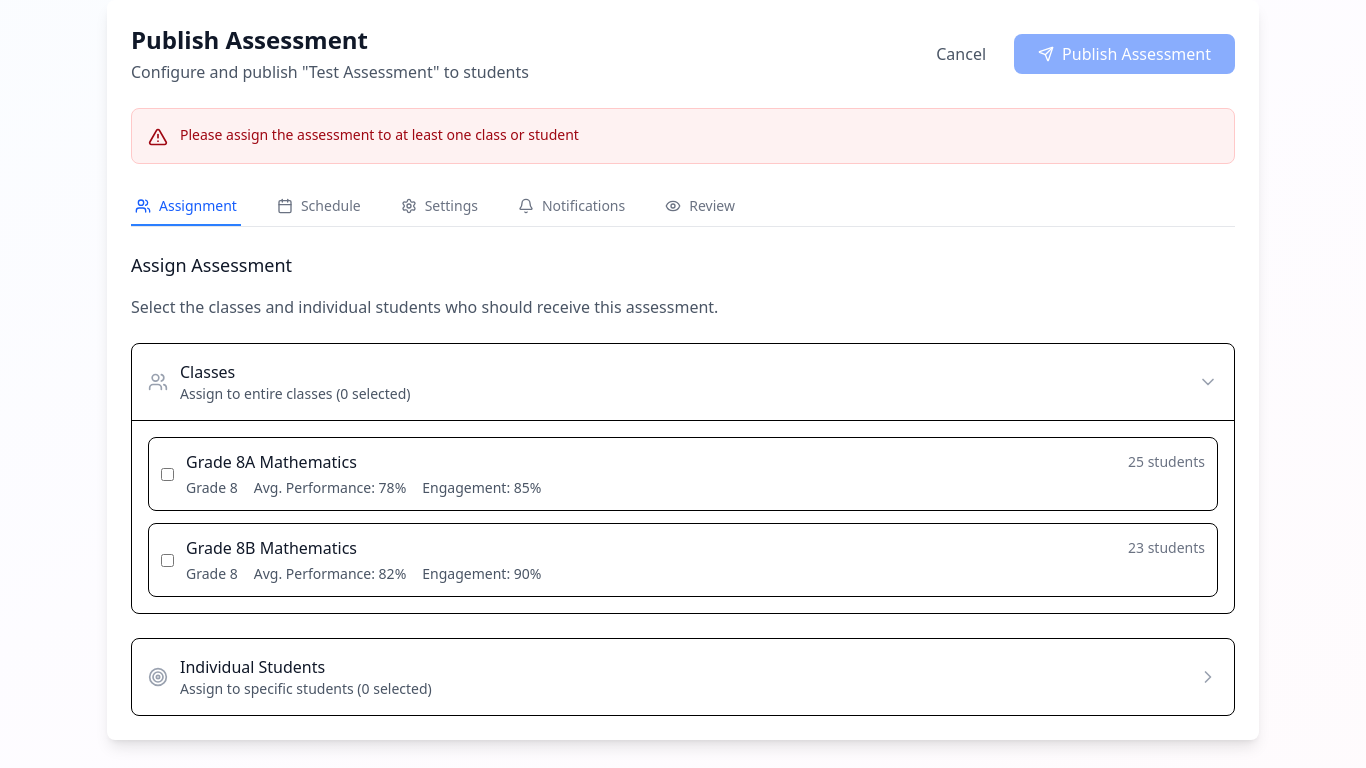
Test: AssessmentPublisher › Settings Tab › switches to settings tab and shows configuration options
The image size is (1366, 768).
Click the button "Settings": (439, 207) [397, 188, 482, 226]
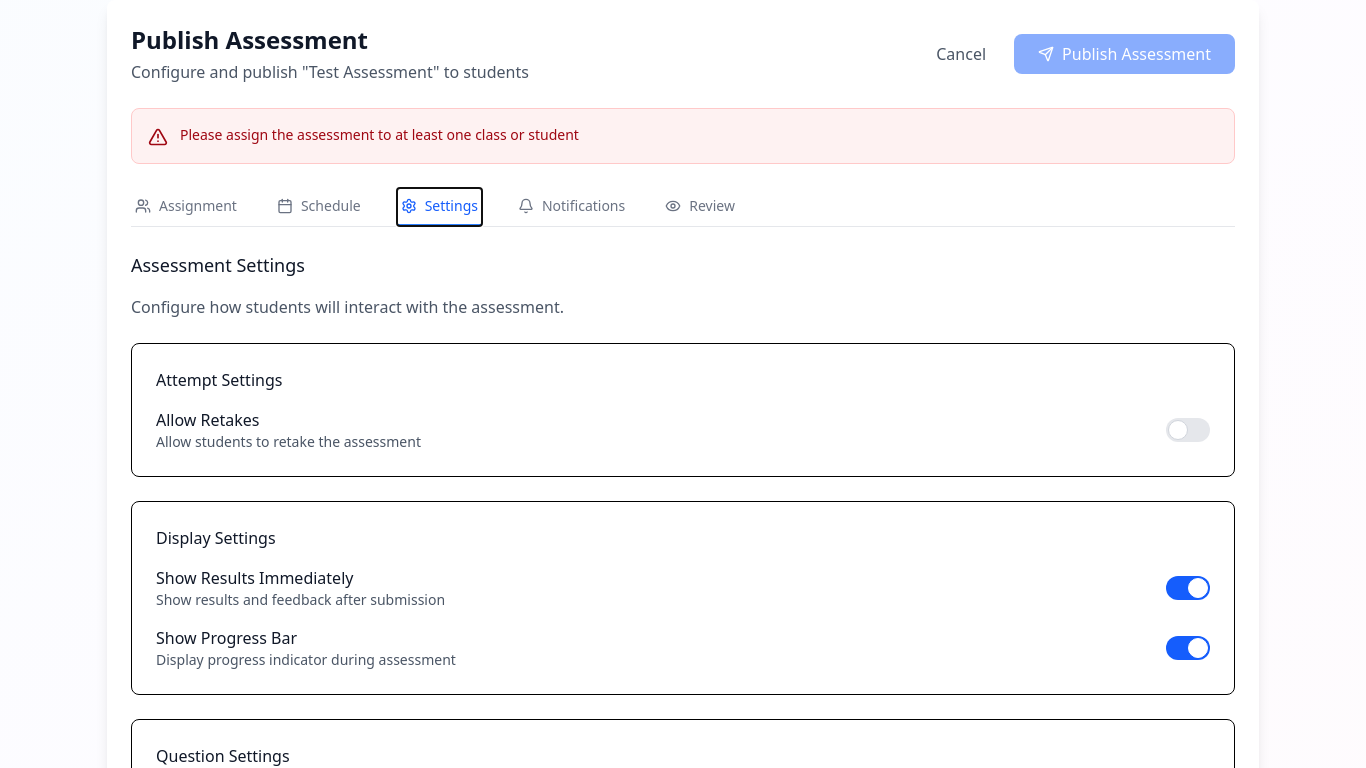
Now the heading "Assessment Settings" is shown, box [131, 253, 305, 277]
Now the text "Allow Retakes" is shown, box [156, 409, 260, 431]
Now the text "Show Results Immediately" is shown, box [156, 567, 353, 589]
